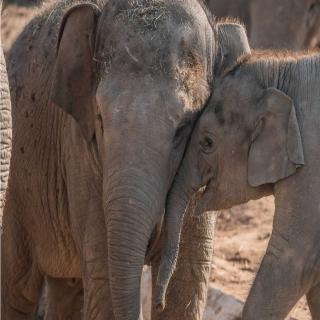Elephant: (0, 0, 230, 319), (155, 48, 320, 320)
